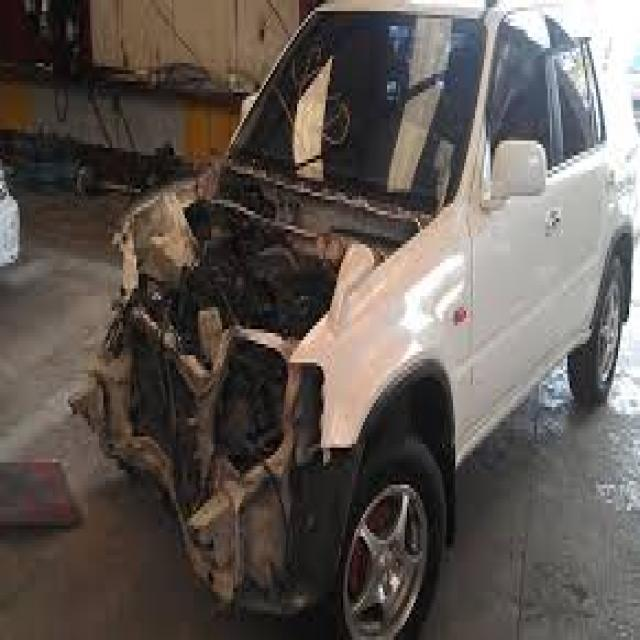severe: (81, 126, 532, 640)
